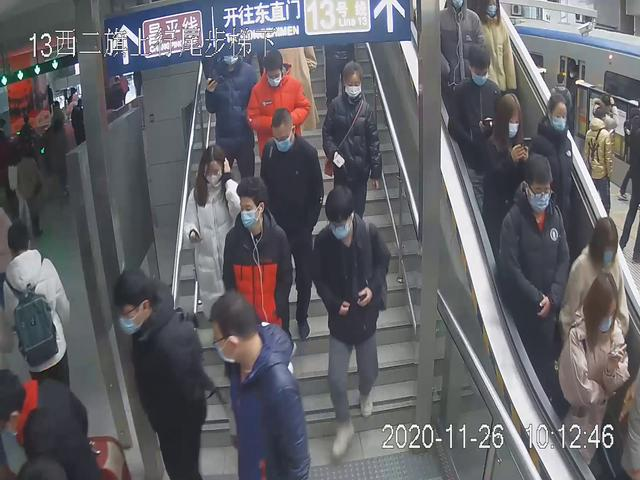person: (307, 177, 392, 463), (108, 265, 219, 480), (207, 287, 315, 480), (255, 107, 327, 352), (493, 151, 565, 372), (556, 274, 630, 472), (221, 175, 297, 360), (180, 141, 248, 345), (320, 59, 386, 240), (446, 40, 502, 225), (245, 44, 316, 188), (199, 38, 261, 197)
